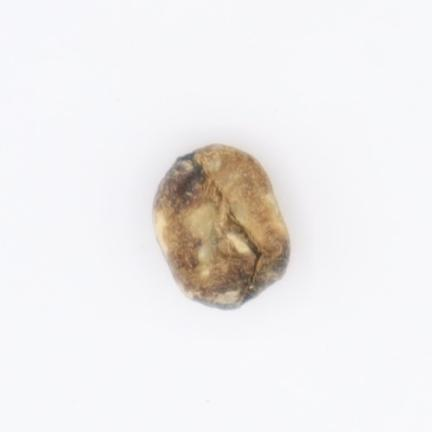partial-black: (154, 144, 289, 308)
